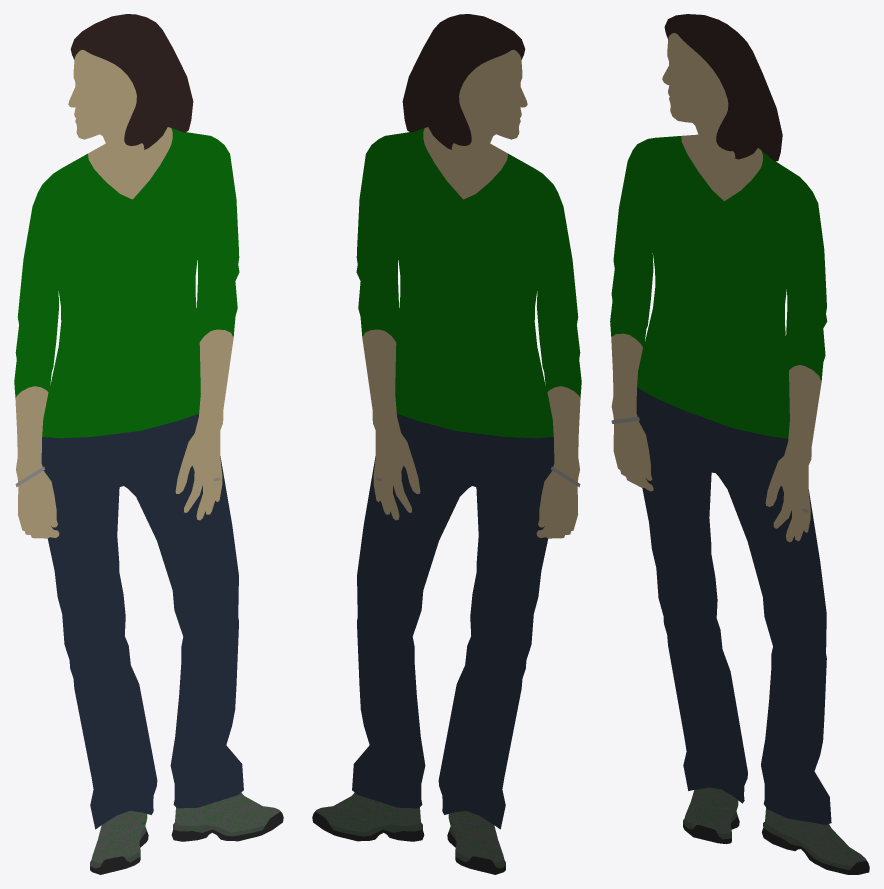
The model's file is Sin título.dae.
3 renders of one model, left to right at view 1: azimuth 30°, elevation 25°; view 2: azimuth 150°, elevation 25°; view 3: azimuth 330°, elevation 25°, orthographic. The views are drawn at different scales.
Parts seen in each view (by area): view 1: Susan (×11); view 2: Susan (×11); view 3: Susan (×10).
Part boxes in pixels (x1,y1,x2,y2): Susan (×11): [14, 14, 283, 863]; Susan (×11): [312, 14, 581, 863]; Susan (×10): [610, 14, 869, 874].
Size of what is drawn, in the model's own units: 21.95 by 2.17e-13 by 66.6.
